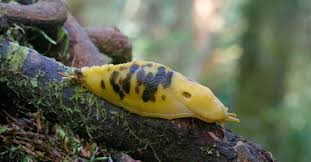slug: (77, 58, 240, 127)
